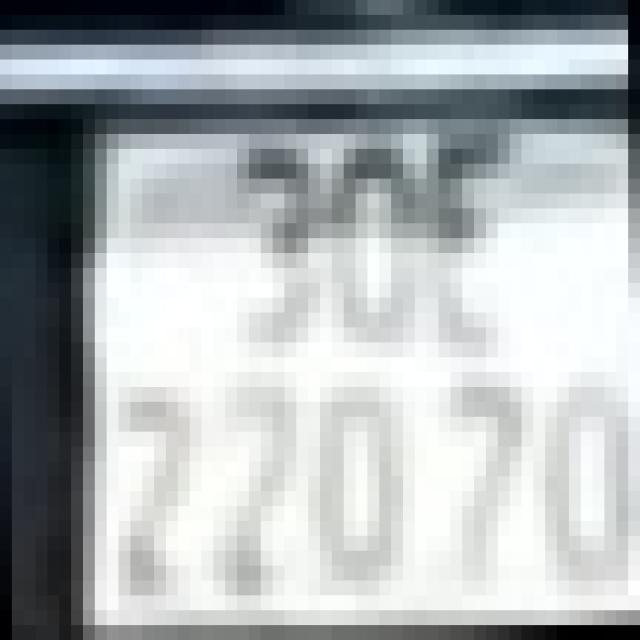0: (545, 372, 640, 581)
6: (237, 149, 320, 342)
E: (421, 126, 527, 364)
